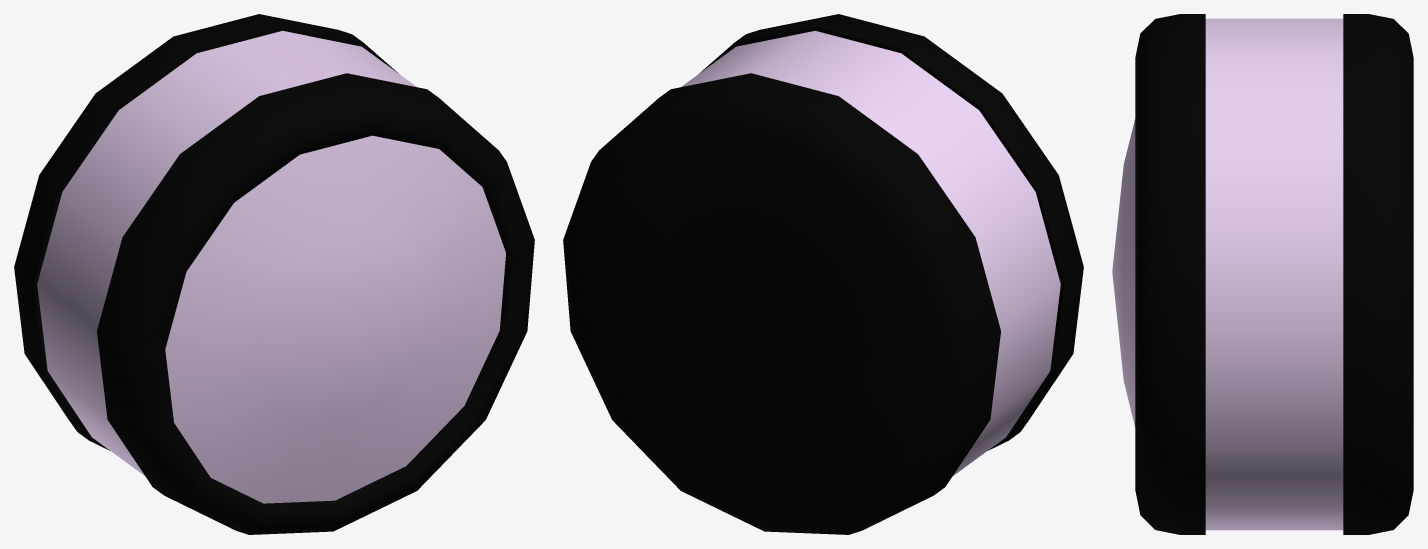
Rendered from Bumper2.FBX.
3 renders of one model, left to right at view 1: azimuth 30°, elevation 25°; view 2: azimuth 150°, elevation 25°; view 3: azimuth 270°, elevation 25°, orthographic. The views are drawn at different scales.
Visible parts, largest first — view 1: Cylinder001; view 2: Cylinder001; view 3: Cylinder001.
Boxes of the visible parts, x1,y1,x2,y2 form: Cylinder001: (14, 14, 534, 534); Cylinder001: (563, 14, 1083, 534); Cylinder001: (1112, 14, 1413, 534).
Bounding box in the file's own units: 94.07 × 93.73 × 54.14.
